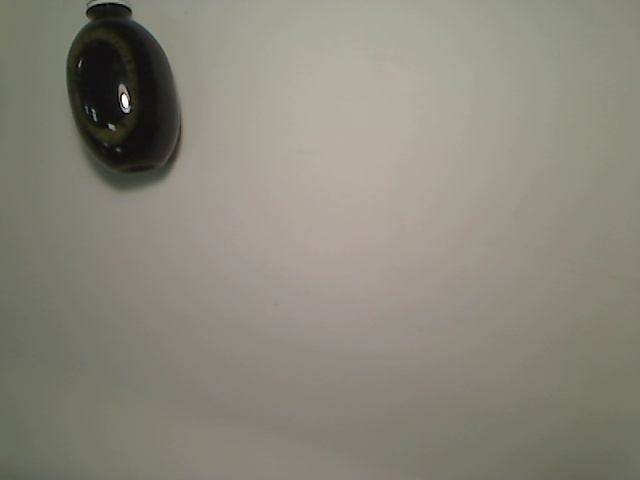plast_bottle: (63, 1, 187, 178)
